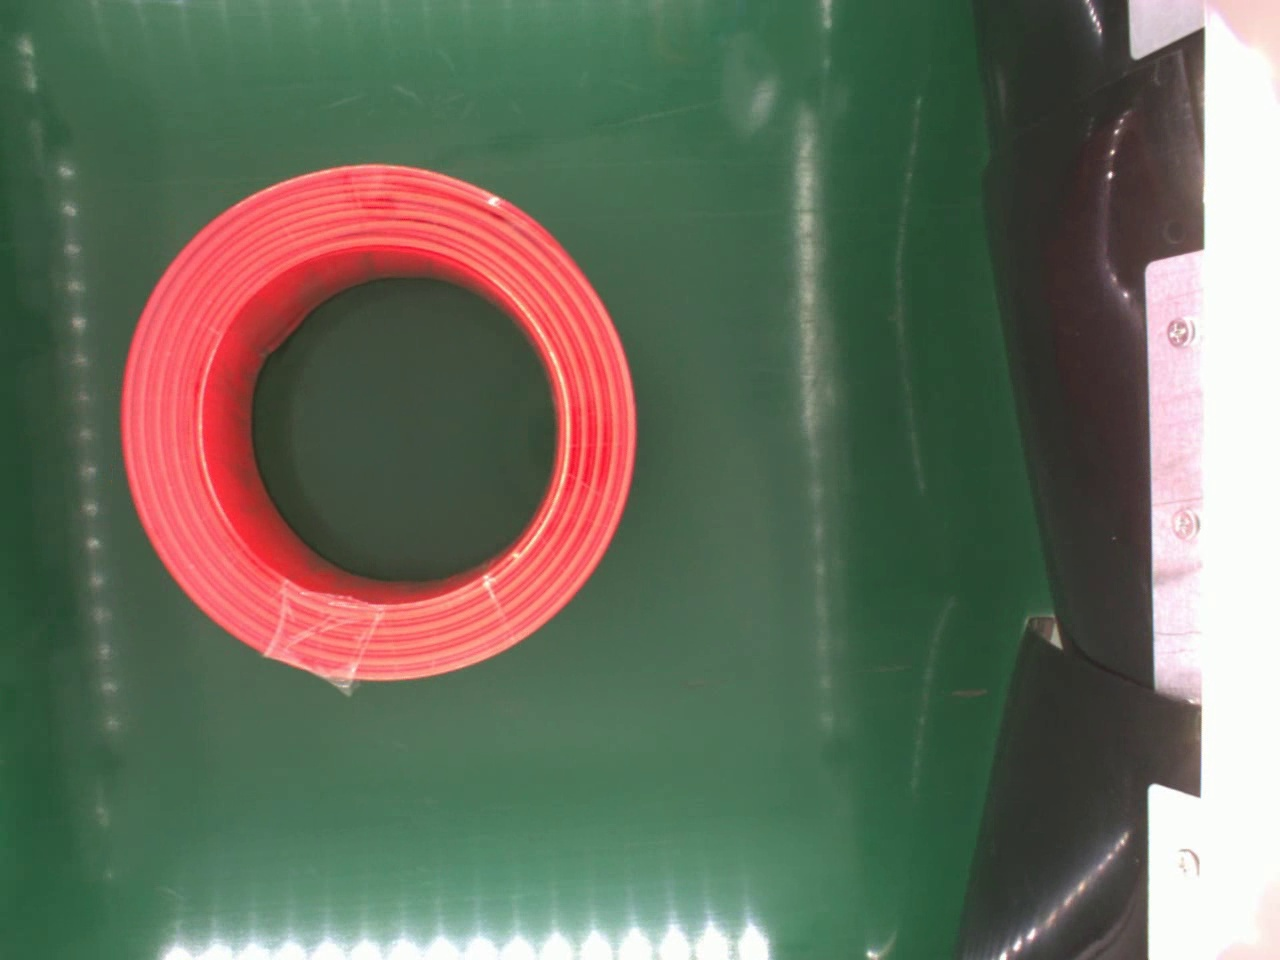red: (114, 161, 638, 696)
